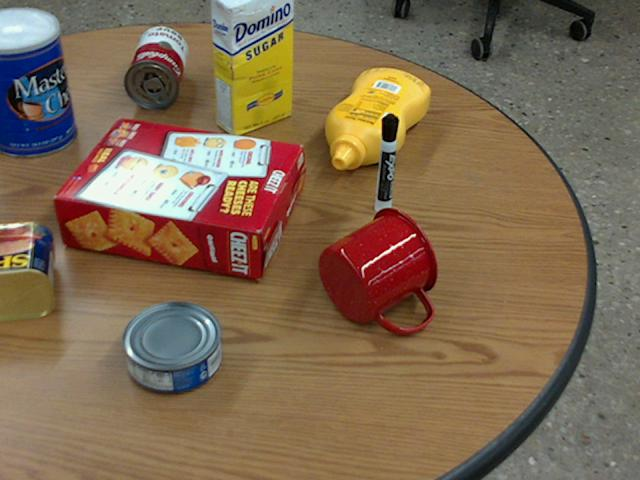cracker_box: (55, 117, 301, 278)
large_marker: (376, 113, 398, 213)
master_chef_can: (0, 7, 76, 156)
mug: (319, 207, 439, 332)
mustard_bottle: (325, 69, 429, 169)
potted_meat_can: (0, 220, 53, 320)
sugar_box: (212, 0, 293, 136)
tomato_soup_can: (124, 26, 186, 108)
tuna_fish_can: (120, 300, 219, 393)
